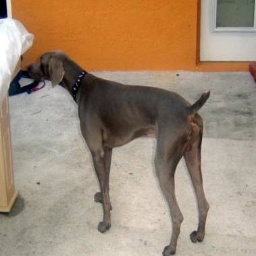dog: (18, 46, 213, 252)
